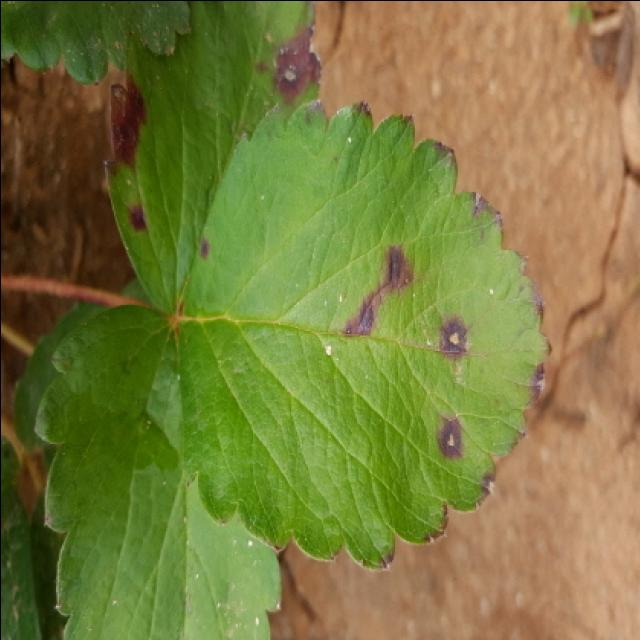Leaf Spot: (177, 97, 552, 570), (105, 2, 325, 319)
